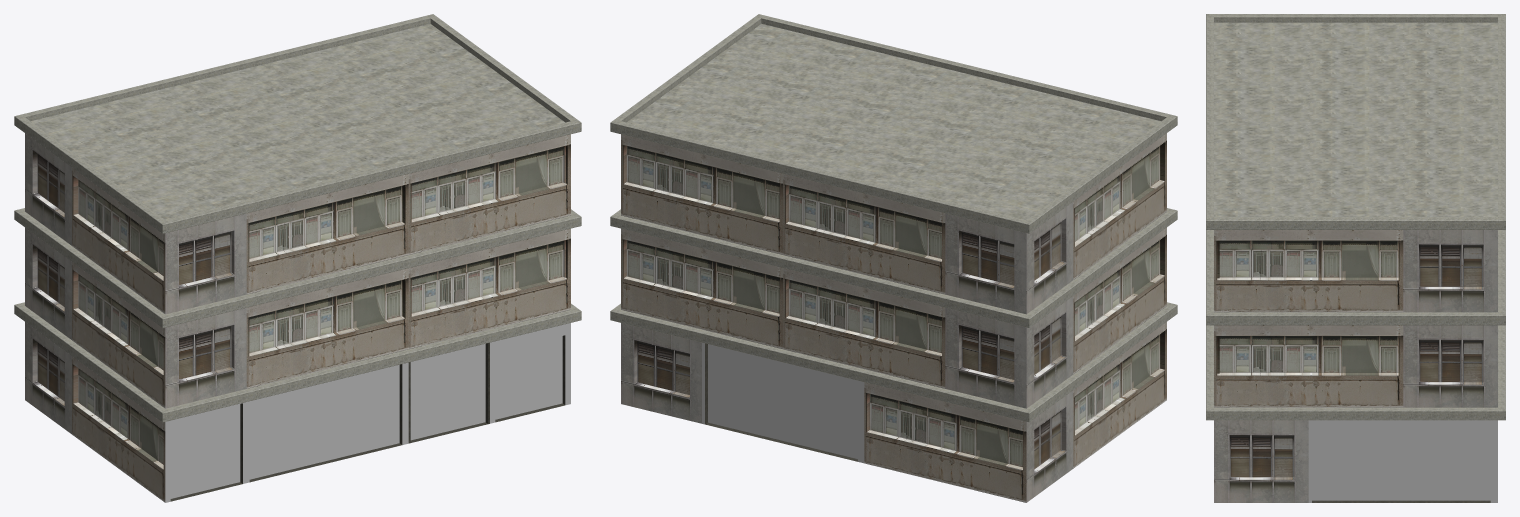
Rendered from CT_door_030.fbx.
The picture shows the model from 3 angles, left to right: view 1: azimuth 30°, elevation 25°; view 2: azimuth 150°, elevation 25°; view 3: azimuth 270°, elevation 25°; orthographic projection.
Parts seen in each view (by area): view 1: CT_door_030; view 2: CT_door_030; view 3: CT_door_030.
Boxes of the visible parts, x1,y1,x2,y2 form: CT_door_030: [14, 14, 581, 502]; CT_door_030: [610, 14, 1177, 502]; CT_door_030: [1206, 14, 1505, 502].
Bounding box in the file's own units: 1323 × 853 × 811.
